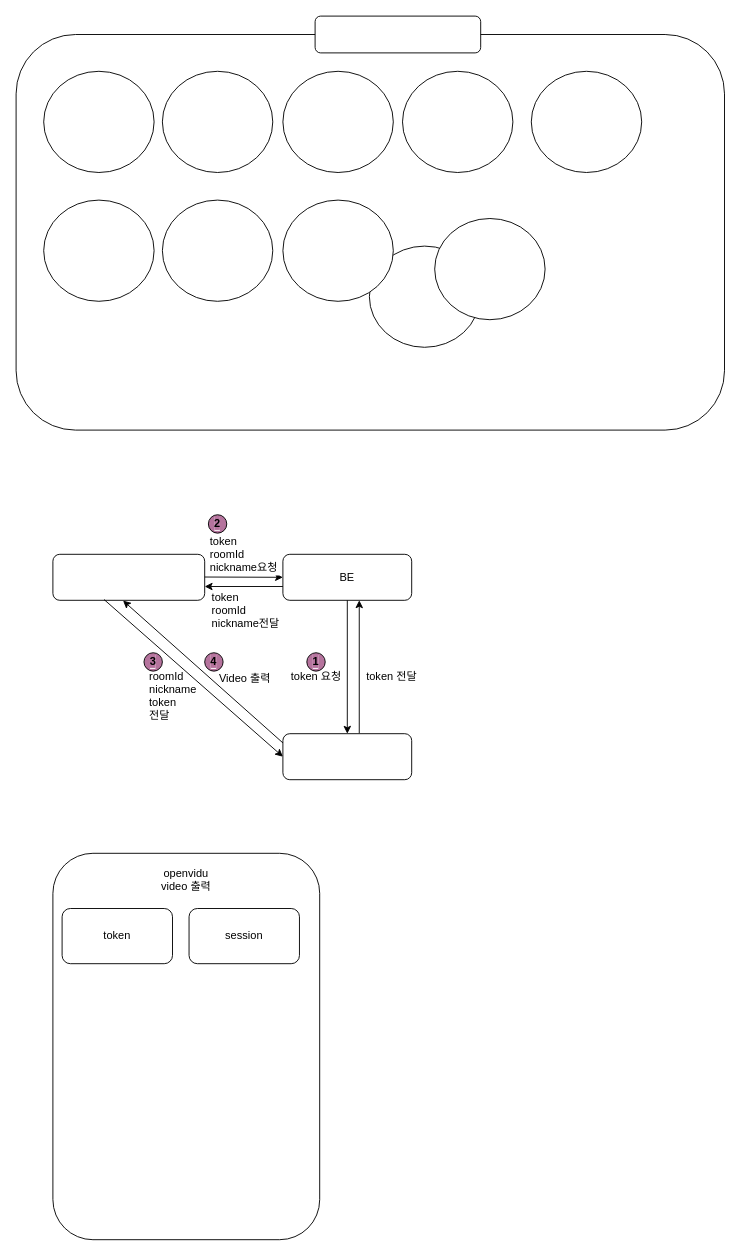
Image size: 741x1256. Some labels were removed from this diagram. The shapes that lost their labels are listed below. From the top down, each one's centre as x and y in pixels, then its label:
point (397, 34): Room1
point (128, 576): FE useEffect = [ token, roomid, nickname]
point (347, 756): localhost 4443
